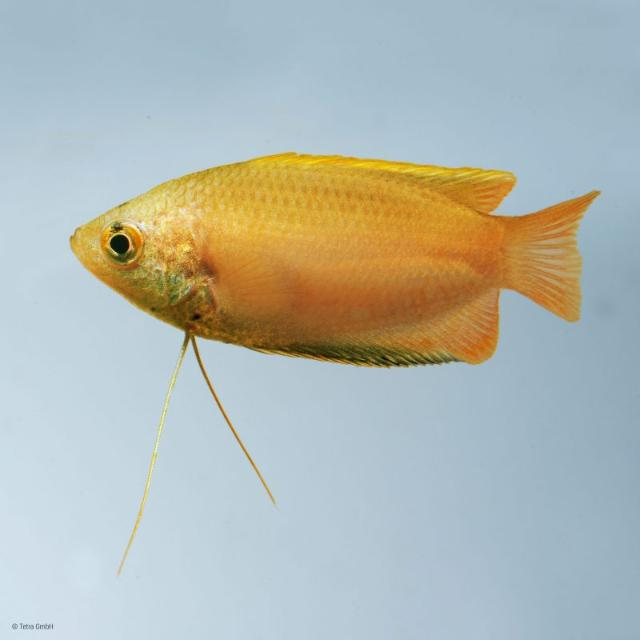Mulut: (53, 218, 109, 282)
Sirip Anal: (260, 282, 520, 378)
Sirip Dada: (206, 242, 292, 326)
Sirip Ekor: (508, 170, 612, 346)
Sirip Perut: (93, 320, 301, 586)
Sirip Punggung: (251, 140, 523, 216)
